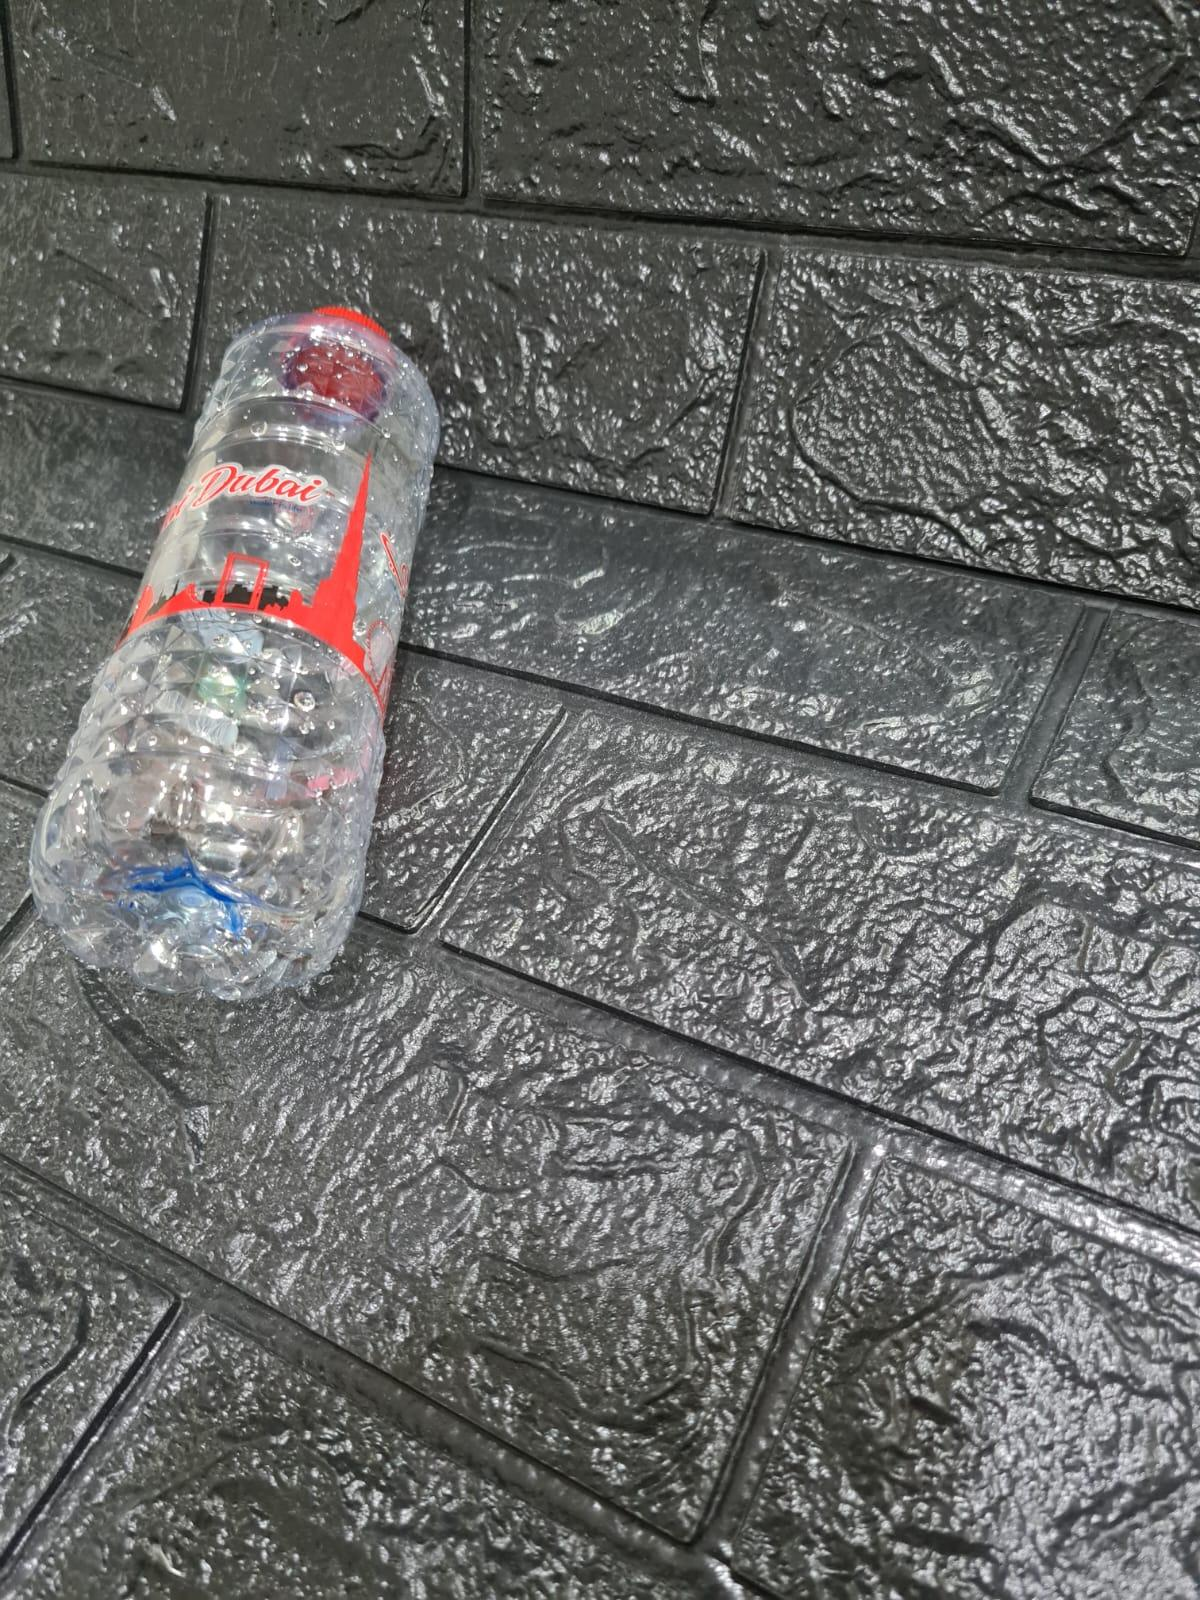bottle: (11, 287, 465, 986)
